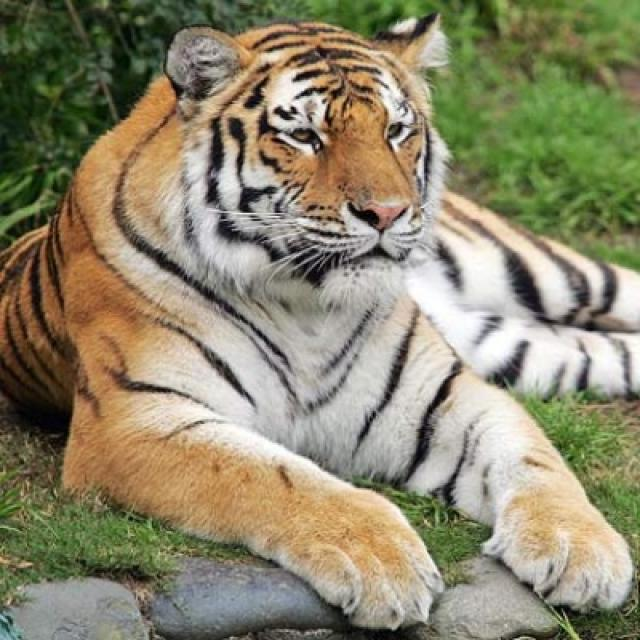Tiger: (0, 13, 638, 622)
